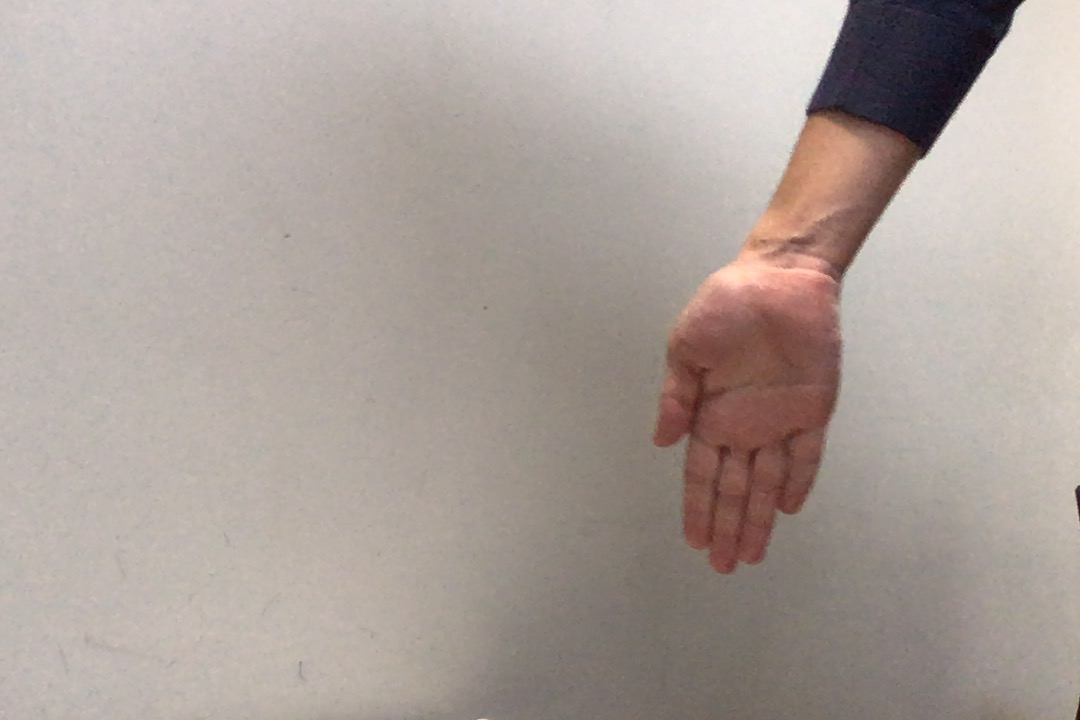palmhand: (648, 260, 846, 580)
